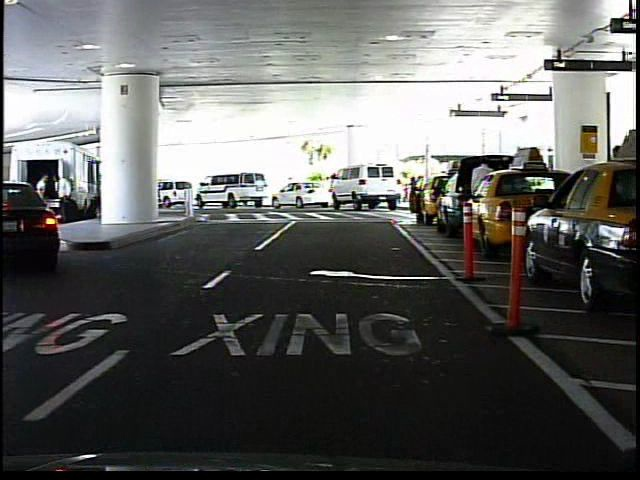person: (464, 154, 497, 239), (405, 174, 421, 208), (282, 173, 298, 204)
